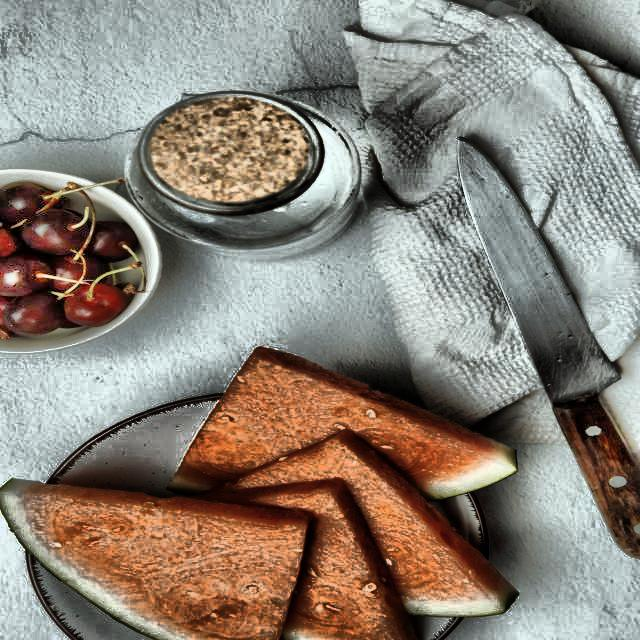knife: (449, 134, 640, 561)
